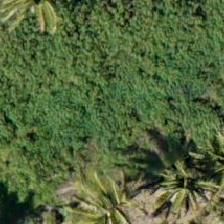Kelapa_Sawit: (138, 137, 223, 223), (59, 164, 150, 223)
